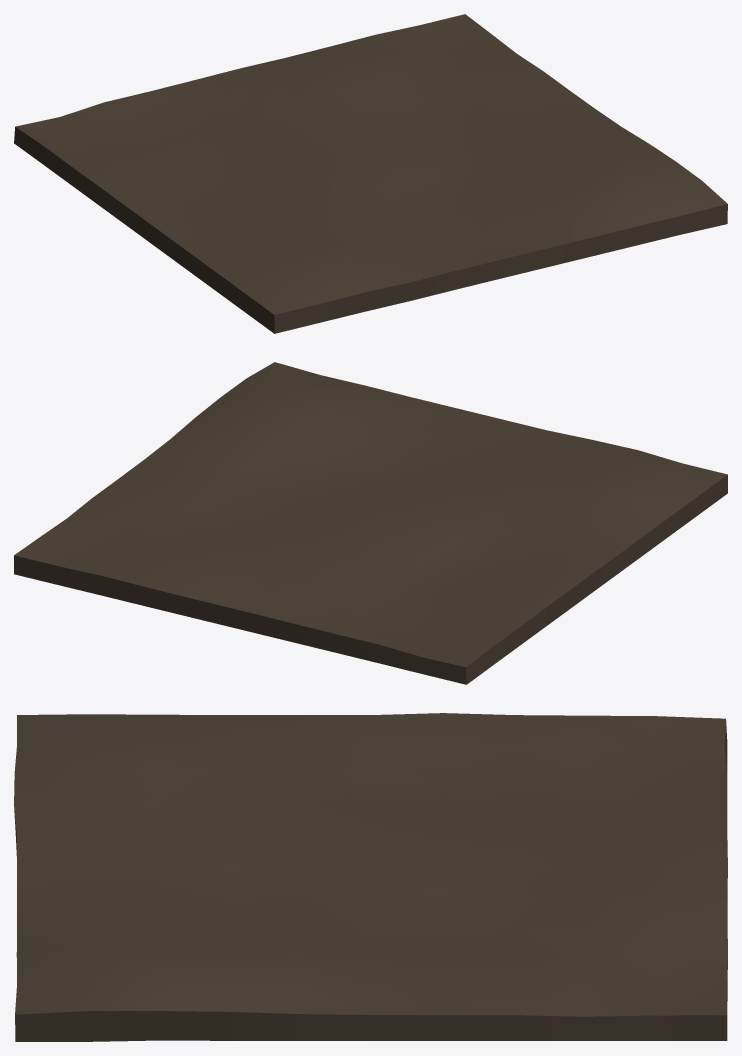
Rendered from Floor.fbx.
The picture shows the model from 3 angles, top to bottom: view 1: azimuth 30°, elevation 25°; view 2: azimuth 150°, elevation 25°; view 3: azimuth 270°, elevation 25°; orthographic projection. The views are drawn at different scales.
Parts seen in each view (by area): view 1: Floor; view 2: Floor; view 3: Floor.
Boxes of the visible parts, left/top/right/bottom form: Floor: left=14, top=14, right=727, bottom=333; Floor: left=14, top=362, right=727, bottom=684; Floor: left=14, top=713, right=727, bottom=1041.
Bounding box in the file's own units: 50.38 × 3.47 × 50.26.
